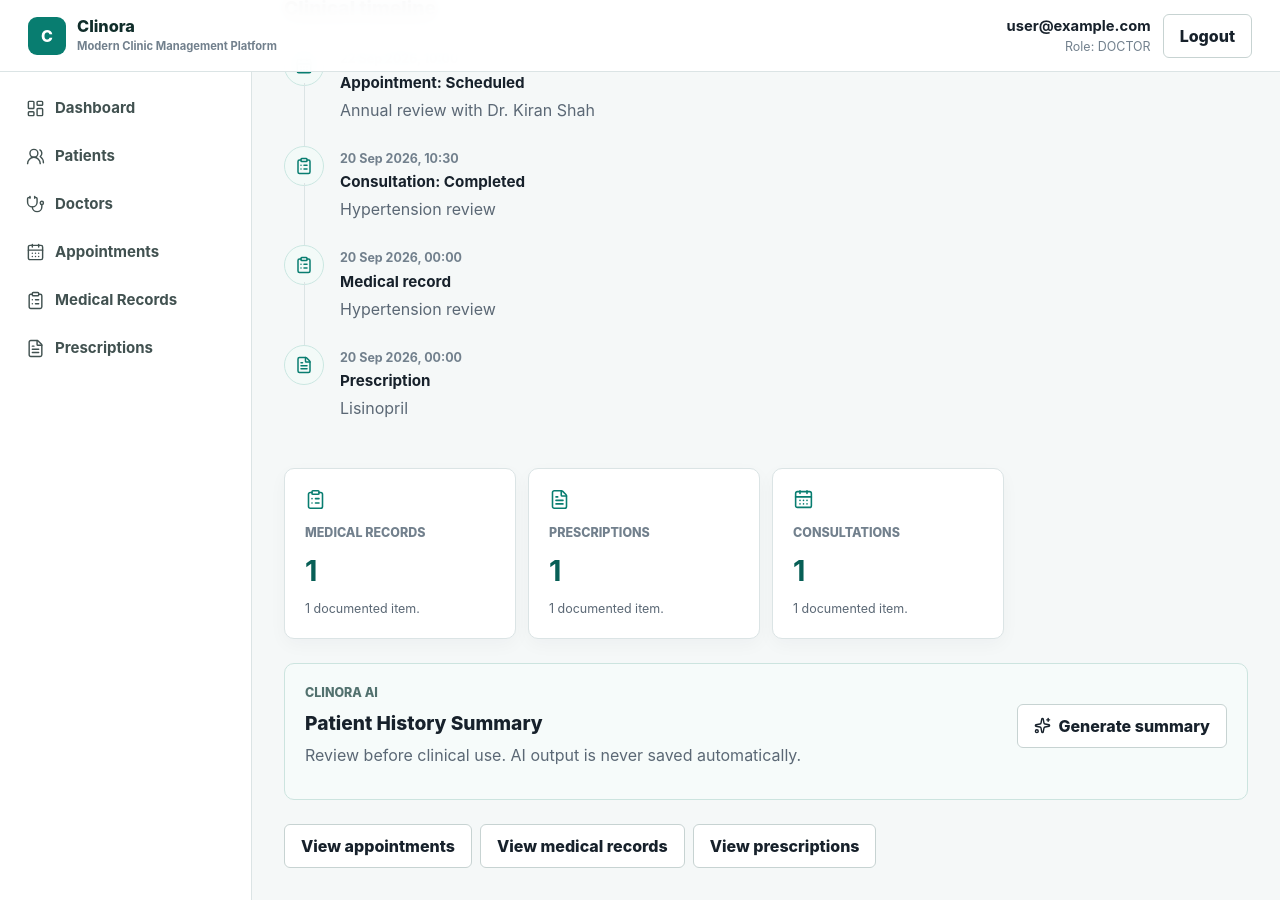
Test case: PatientDetailPage › generates an AI summary only after explicit clinician action
(page scrolled)
Step 1. Click the button "Generate summary" → [1122, 726], box [1017,704,1227,748]
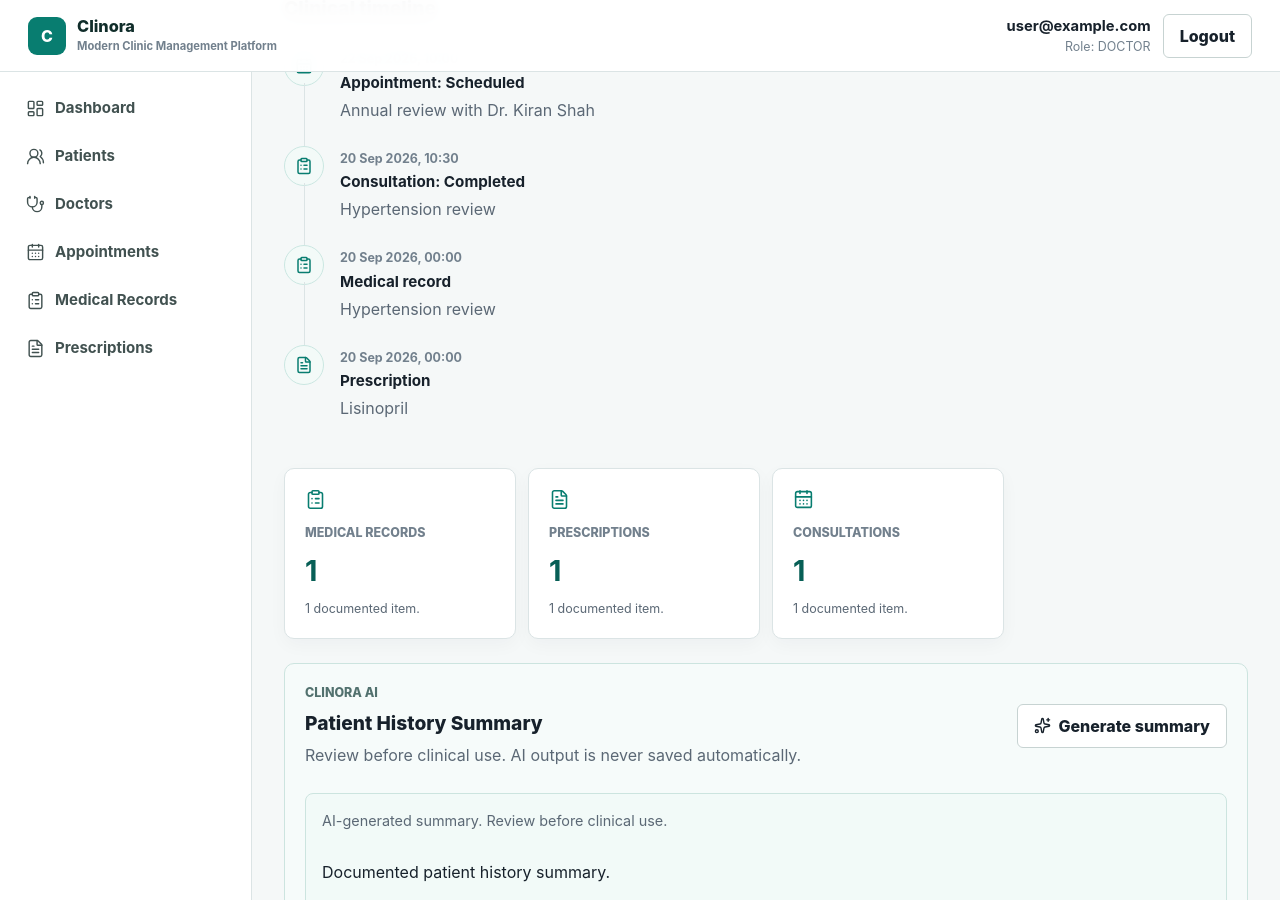
expect the text "AI-generated summary. Review before clinical use." is shown: met, box [322,812,667,829]
